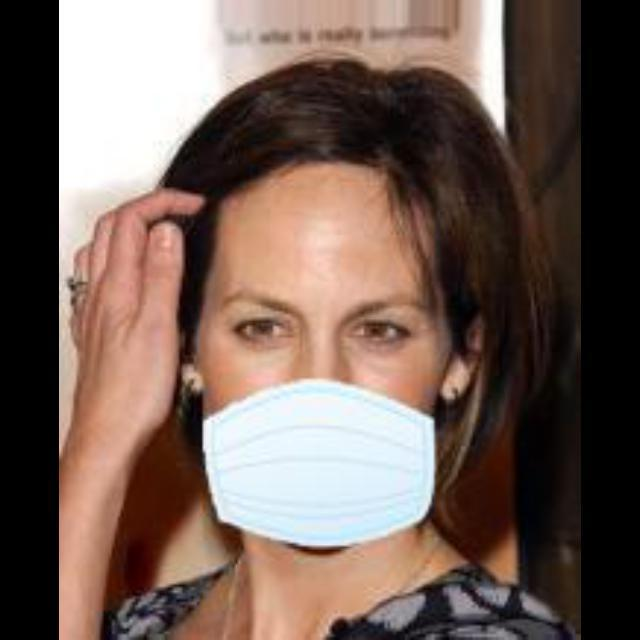suspicion: (158, 167, 548, 563)
